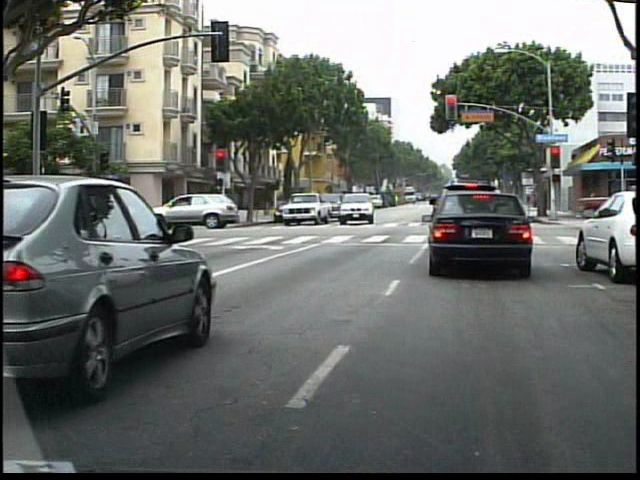person: (106, 191, 124, 234), (134, 192, 135, 233)
